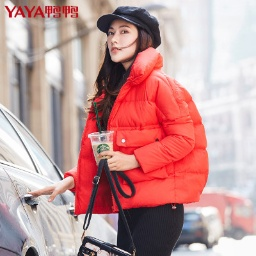face: (90, 9, 158, 102)
